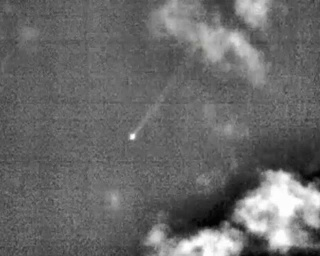AIRPLANE: (124, 74, 191, 146)
